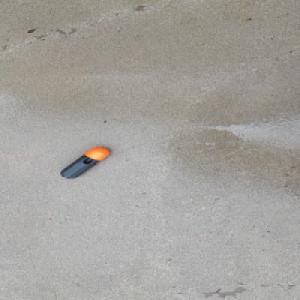PlasticPart: (59, 146, 110, 179)
